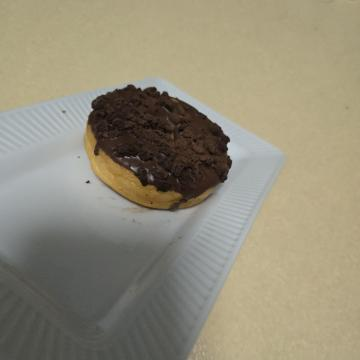doughnut: (75, 118, 227, 287)
